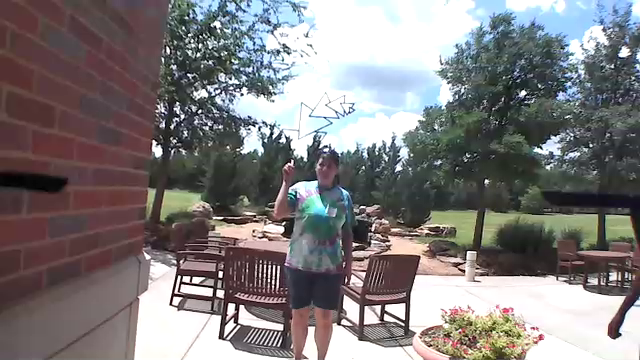up: (278, 154, 298, 188)
